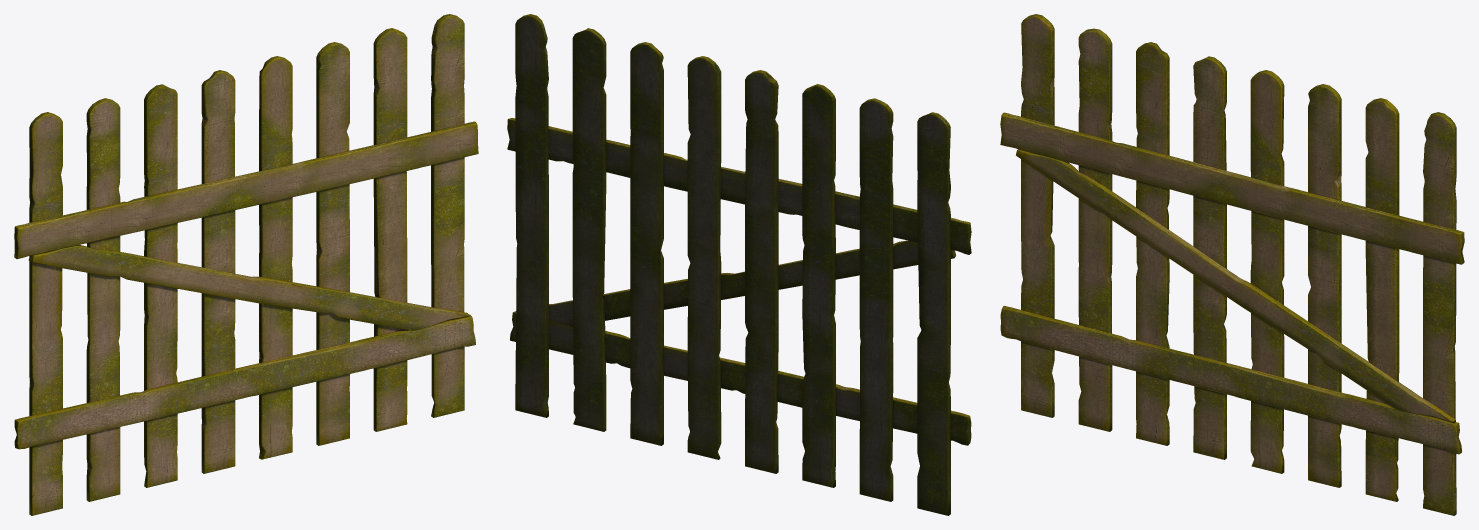
File: fence.obj
3 renders of one model, left to right at view 1: azimuth 30°, elevation 25°; view 2: azimuth 150°, elevation 25°; view 3: azimuth 330°, elevation 25°, orthographic.
Visible parts, largest first — view 1: Cube_Cube.001; view 2: Cube_Cube.001; view 3: Cube_Cube.001.
Part boxes in pixels (x1,y1,x2,y2): Cube_Cube.001: [14, 14, 478, 515]; Cube_Cube.001: [507, 14, 971, 515]; Cube_Cube.001: [1000, 14, 1464, 515].
Size of the model in its own units: 8.65 by 7.12 by 0.198.
Materials: 1 (1 with a texture image).
